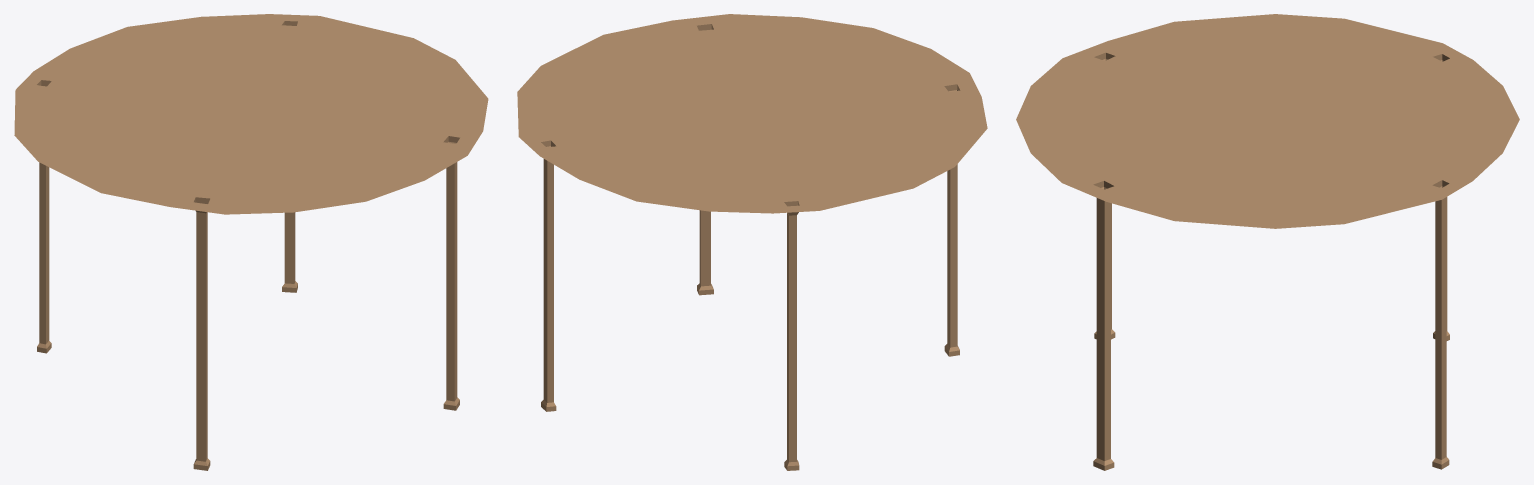
The model's file is table_support 1.fbx.
3 views of the same model, side by side, from view 1: azimuth 30°, elevation 25°; view 2: azimuth 150°, elevation 25°; view 3: azimuth 270°, elevation 25° (orthographic). The views are drawn at different scales.
Visible parts, largest first — view 1: table; view 2: table; view 3: table.
Boxes of the visible parts, x1,y1,x2,y2 form: table: [14, 14, 488, 470]; table: [517, 14, 987, 470]; table: [1016, 14, 1519, 470].
Bounding box in the file's own units: 1.63 × 0.9972 × 1.62.
